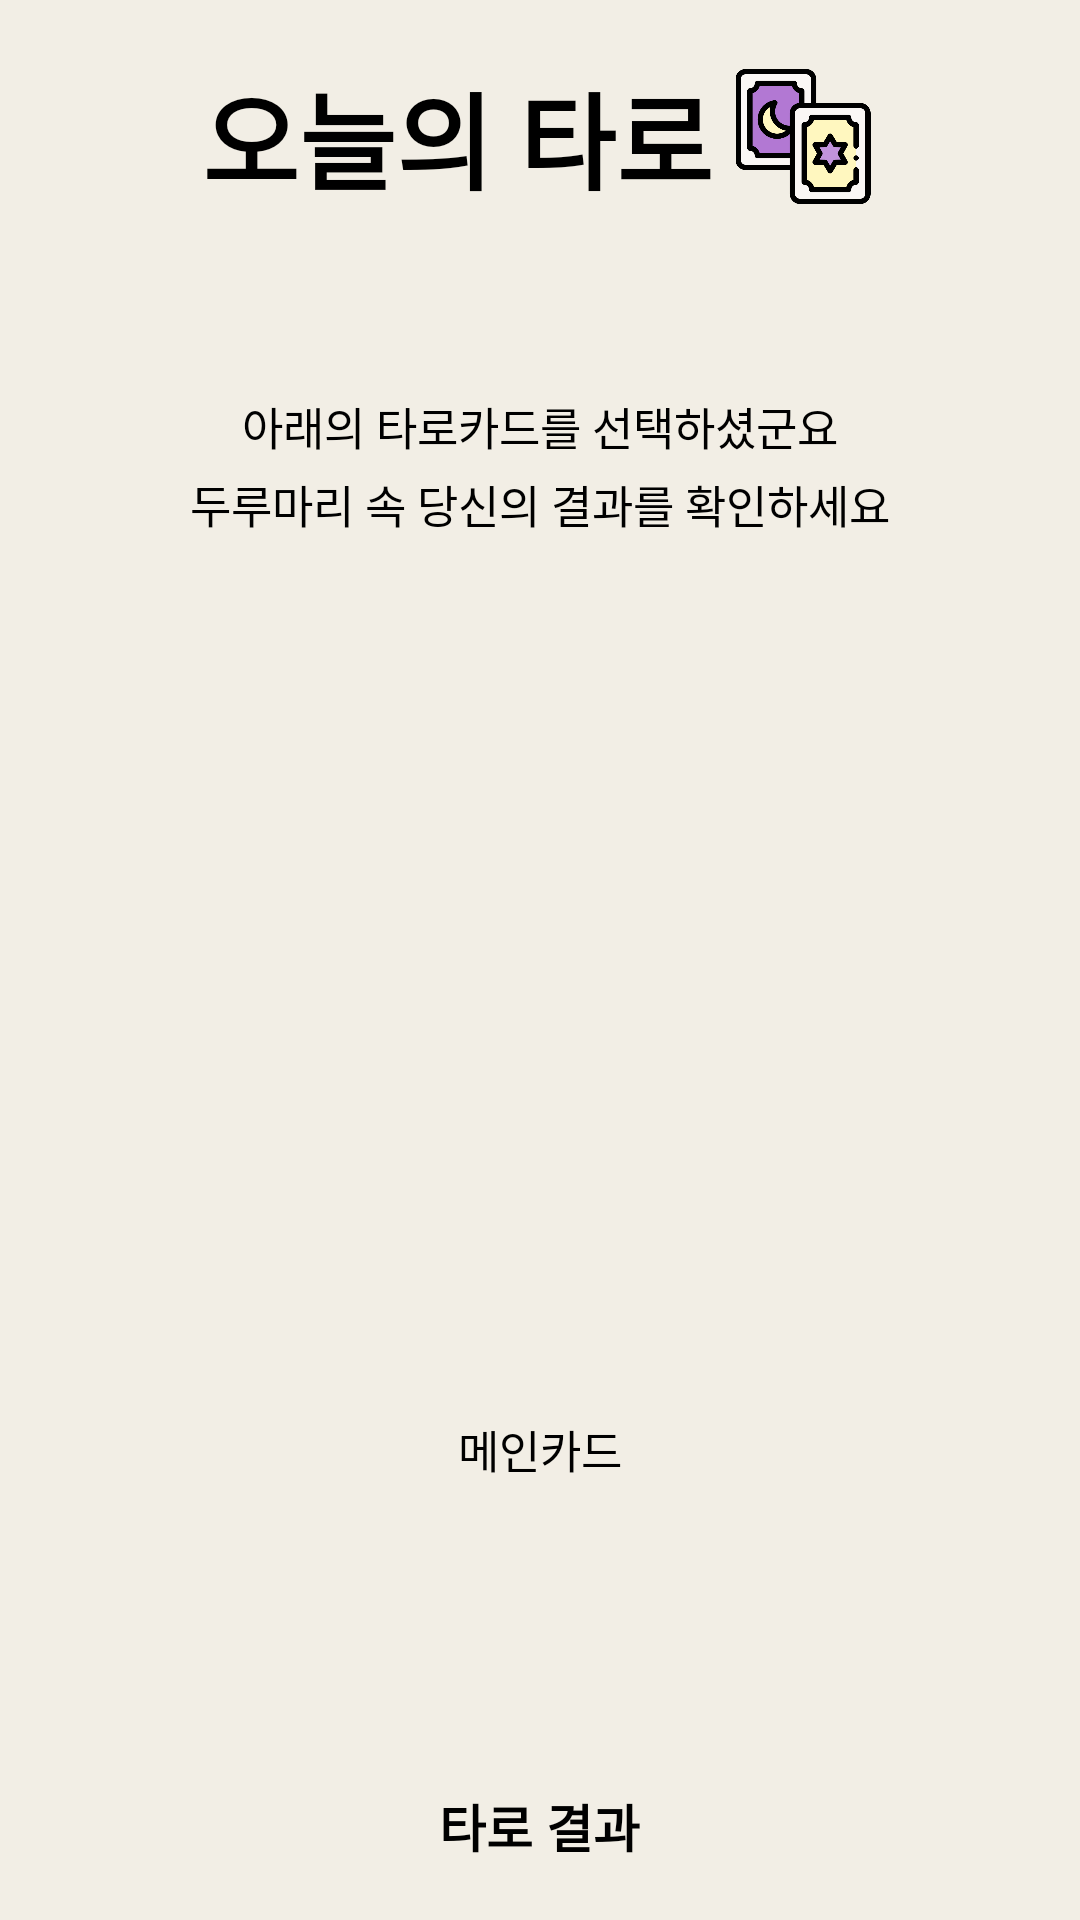

Icons on this 1080x1920 Android screen, each with its box as (x1, y1, x2, y2):
taro: (736, 69, 871, 204)
